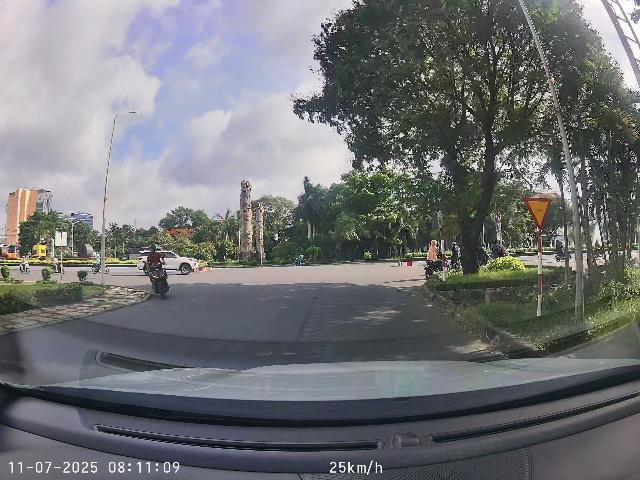208-giao-nhau-voi-duong-uu-tien: (524, 197, 551, 230)
